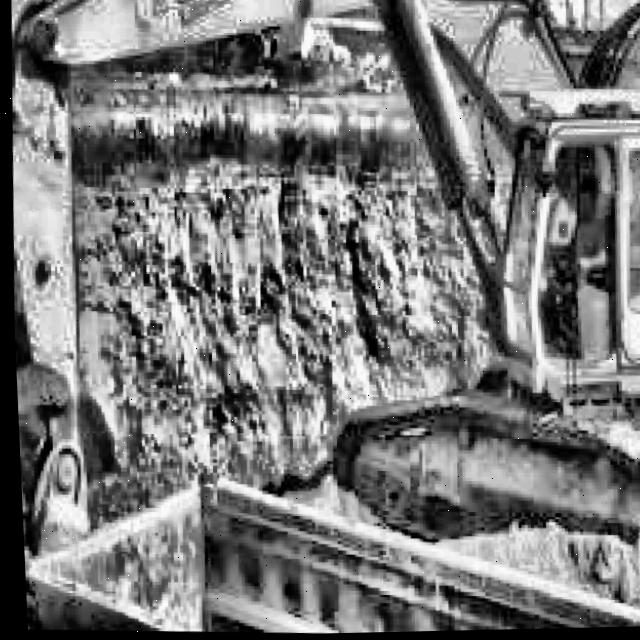dump_truck: (15, 405, 640, 640)
excavator: (0, 0, 640, 640)
